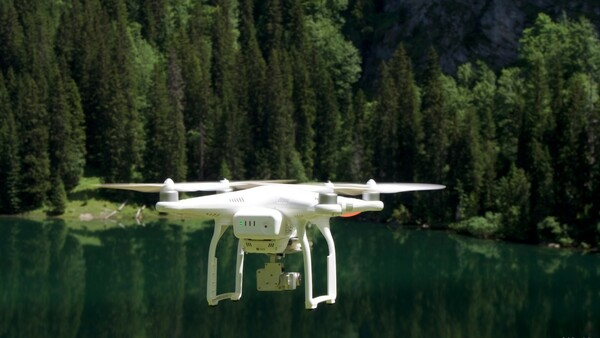drone: (89, 177, 447, 312)
